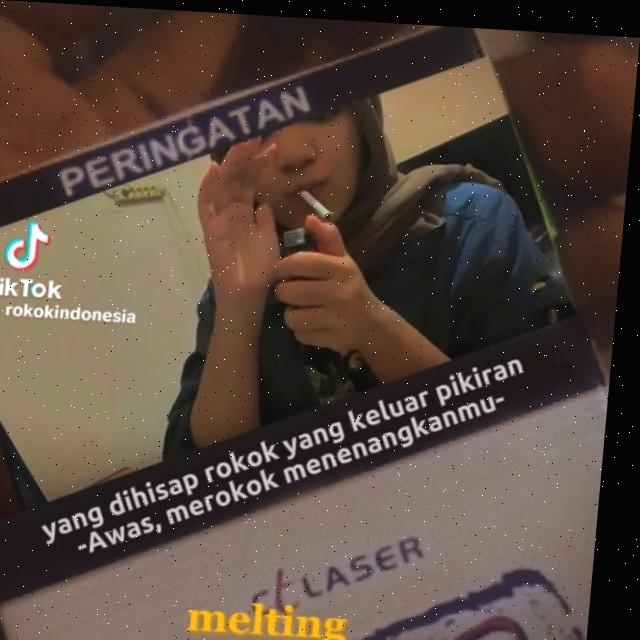cigarette: (300, 186, 338, 217)
